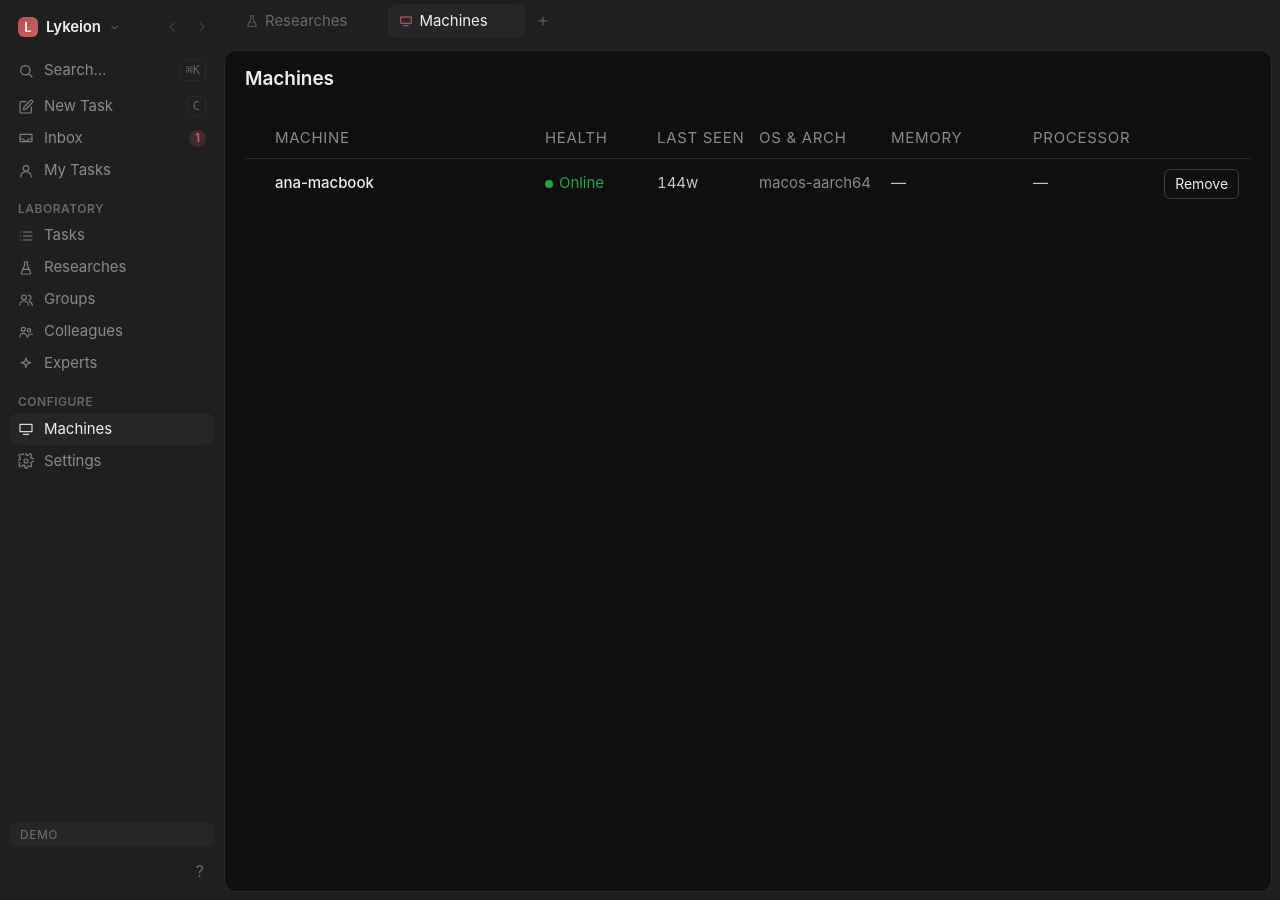
Test: removes a machine from the screen once its removal is confirmed
Click the link "Machines".
click(112, 429)  # box [10,413,214,445]
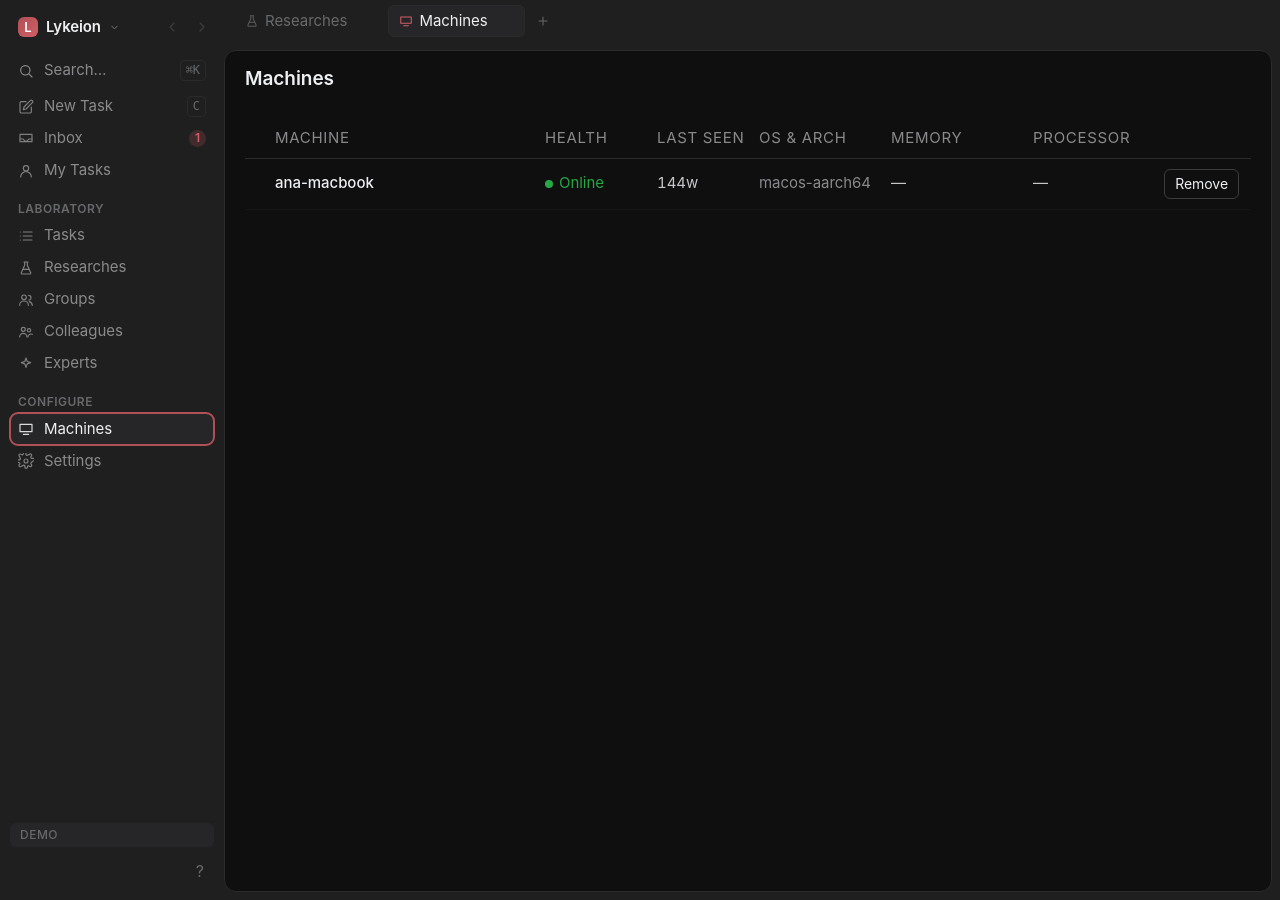
expect the text "ana-macbook" is shown: met, box [275,173,374,192]
Click the button with aria-label "Remove ana-macbook".
click(1202, 184)  # box [1164,168,1239,199]
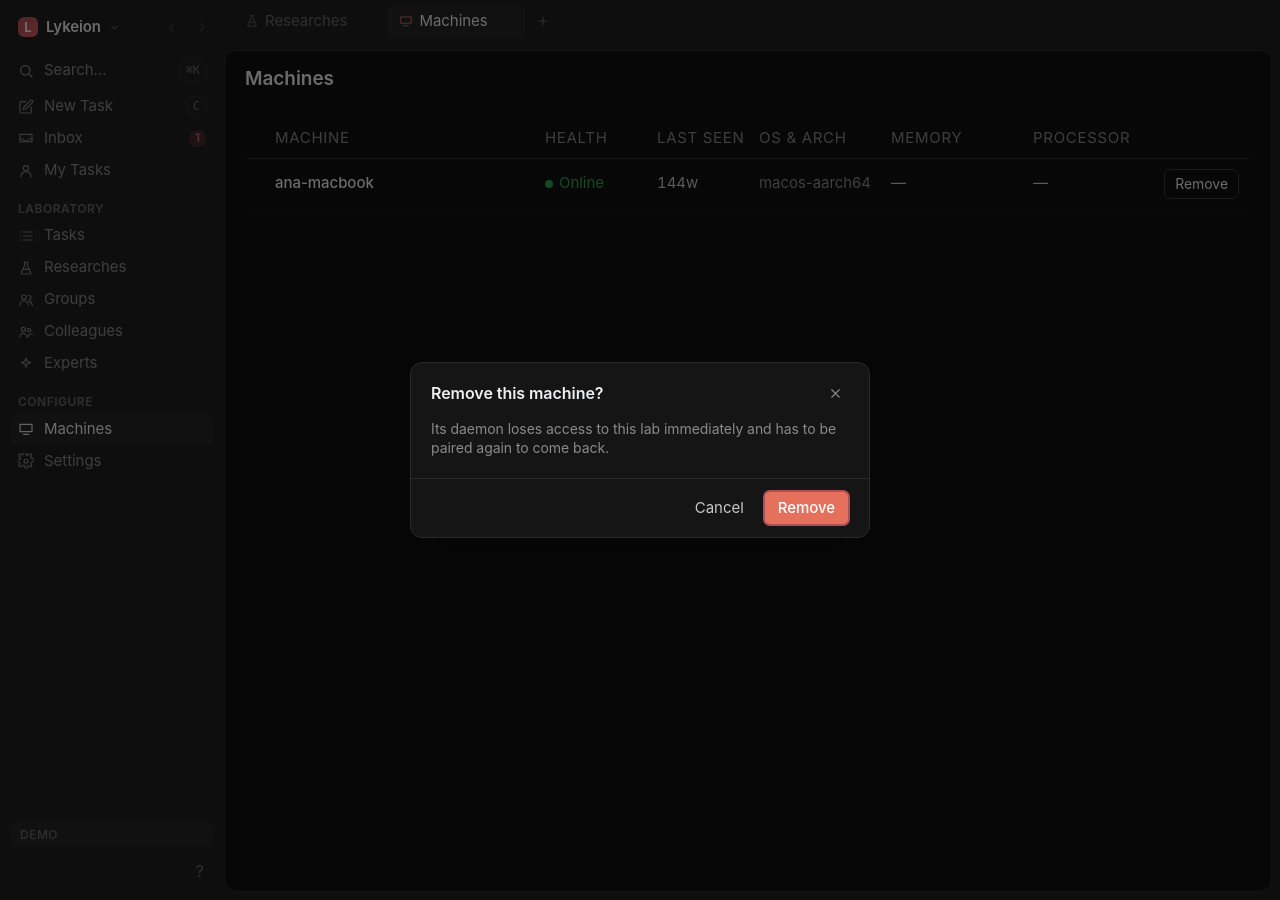
Click the button "Remove".
click(806, 508)  # box [764,490,849,525]
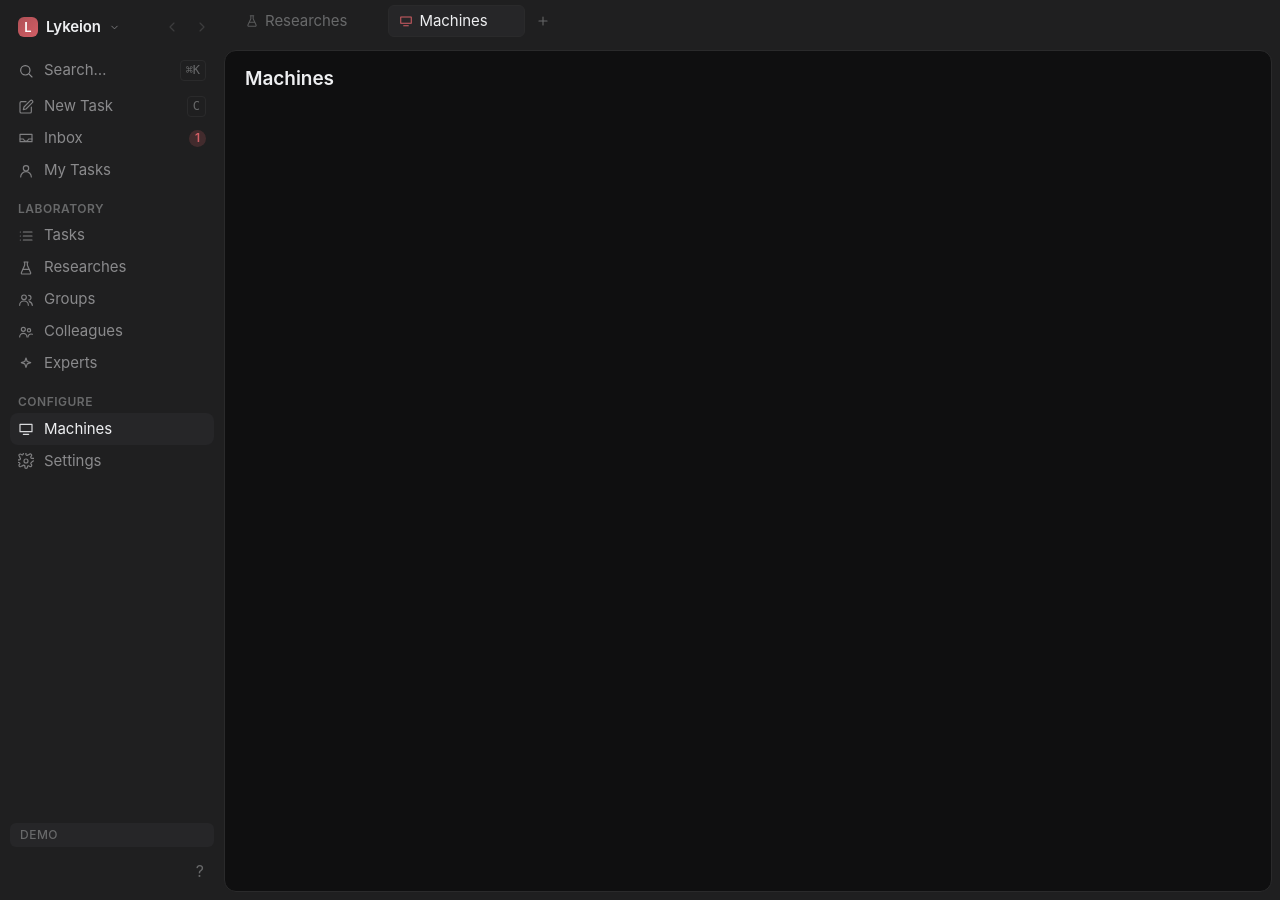
expect the text "ana-macbook" is gone: met
